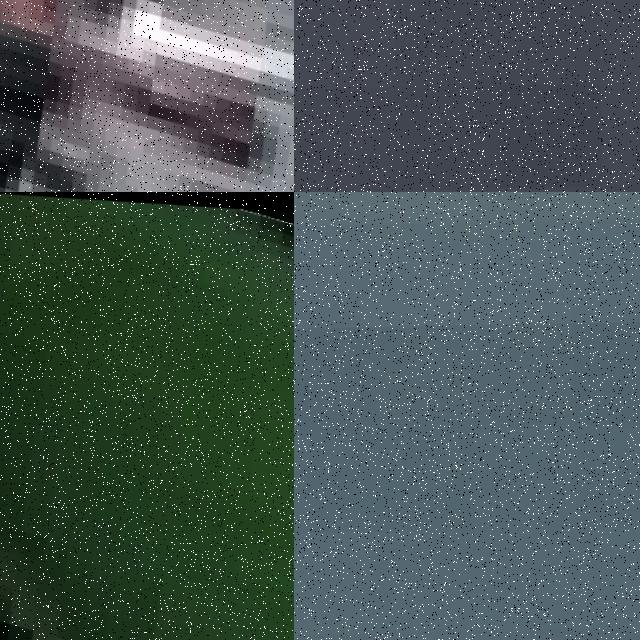0: (0, 0, 294, 192)
drone: (0, 192, 294, 640)
